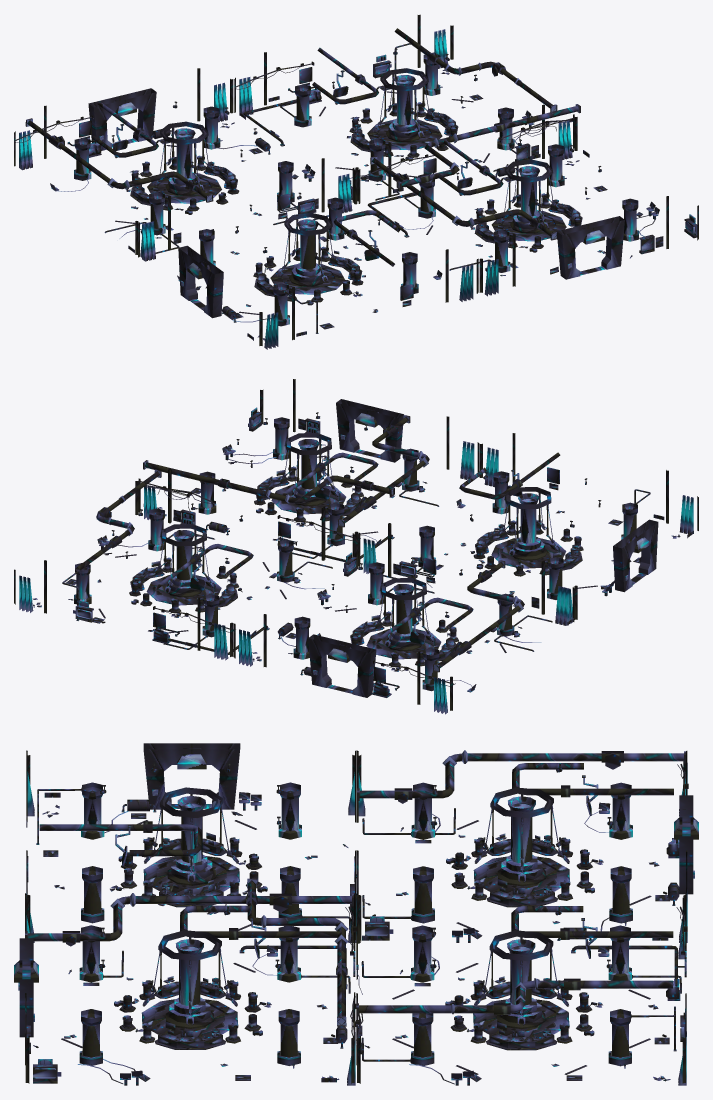
Rendered from Combined_Mesh_root_scene__9_f65a131e__ZombiesII_laboratory_11_d_6be3923c_c1f257_part001.obj.
3 renders of one model, top to bottom at view 1: azimuth 30°, elevation 25°; view 2: azimuth 150°, elevation 25°; view 3: azimuth 270°, elevation 25°, orthographic. The views are drawn at different scales.
Bounding box in the file's own units: 83.04 × 10.34 × 83.14.
Materials: 538 (538 with a texture image).
